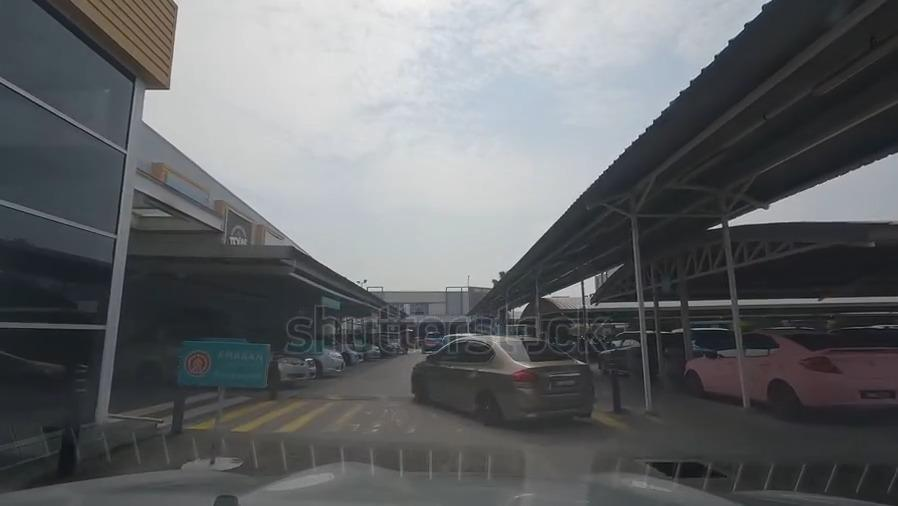car: (684, 335, 898, 410), (413, 338, 589, 420), (120, 333, 314, 390), (597, 333, 683, 375), (308, 344, 343, 373), (419, 330, 443, 353), (344, 340, 361, 361), (360, 340, 379, 357)
manhole: (645, 455, 729, 486)
pedestrian: (188, 410, 662, 435)
speedbump: (286, 390, 416, 403)
wheel: (475, 391, 496, 423), (138, 359, 158, 390), (414, 373, 427, 399)
